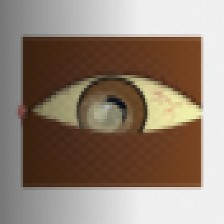corneal_ulcer: (75, 93, 134, 141)
